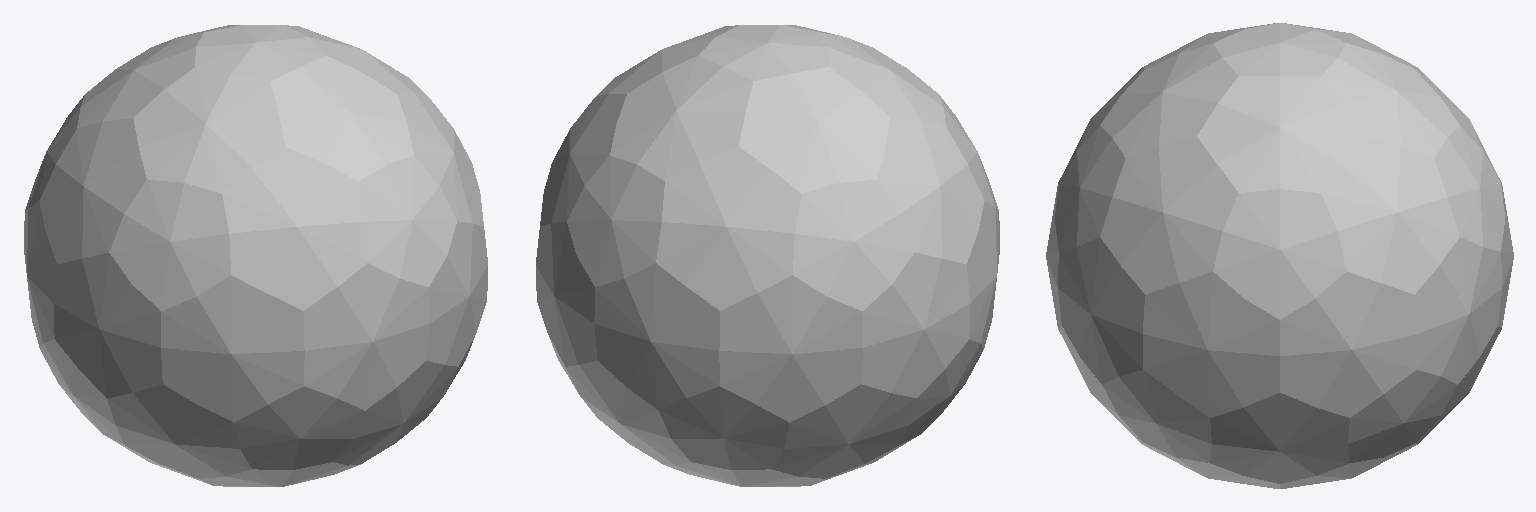
File: icoball.obj
3 renders of one model, left to right at view 1: azimuth 30°, elevation 25°; view 2: azimuth 150°, elevation 25°; view 3: azimuth 270°, elevation 25°, orthographic.
Visible parts, largest first — view 1: Icosphere; view 2: Icosphere; view 3: Icosphere.
Part boxes in pixels (x1,y1,x2,y2): Icosphere: (24, 25, 487, 486); Icosphere: (536, 25, 999, 486); Icosphere: (1046, 23, 1513, 488).
Size of the model in its own units: 1.85 by 1.86 by 1.85.